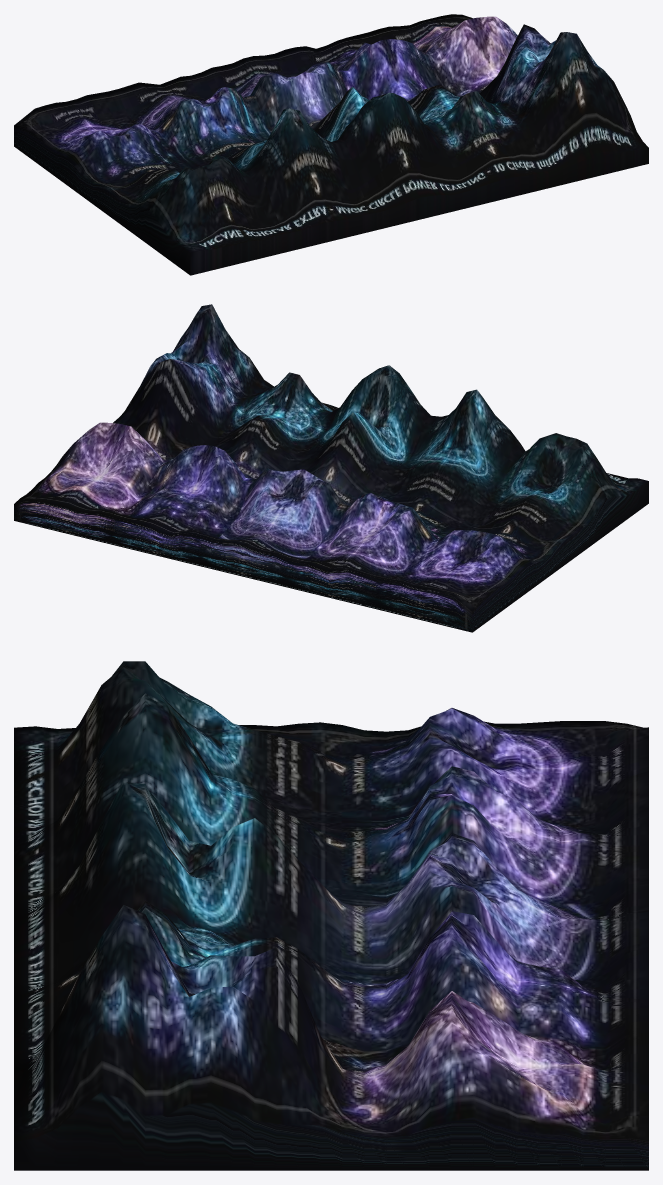
File: EXTRA_Magic_Circle_10_Circles.glb
3 views of the same model, one above another, from view 1: azimuth 30°, elevation 25°; view 2: azimuth 150°, elevation 25°; view 3: azimuth 270°, elevation 25° (orthographic). The views are drawn at different scales.
Visible parts, largest first — view 1: EXTRA_Magic_Circle_10_Circles; view 2: EXTRA_Magic_Circle_10_Circles; view 3: EXTRA_Magic_Circle_10_Circles.
Boxes of the visible parts, <box> form: EXTRA_Magic_Circle_10_Circles: <box>14,14,648,275</box>; EXTRA_Magic_Circle_10_Circles: <box>14,304,648,632</box>; EXTRA_Magic_Circle_10_Circles: <box>14,661,648,1170</box>.
Bounding box in the file's own units: 2 × 0.51 × 1.33.
1 material, 1 textured.
